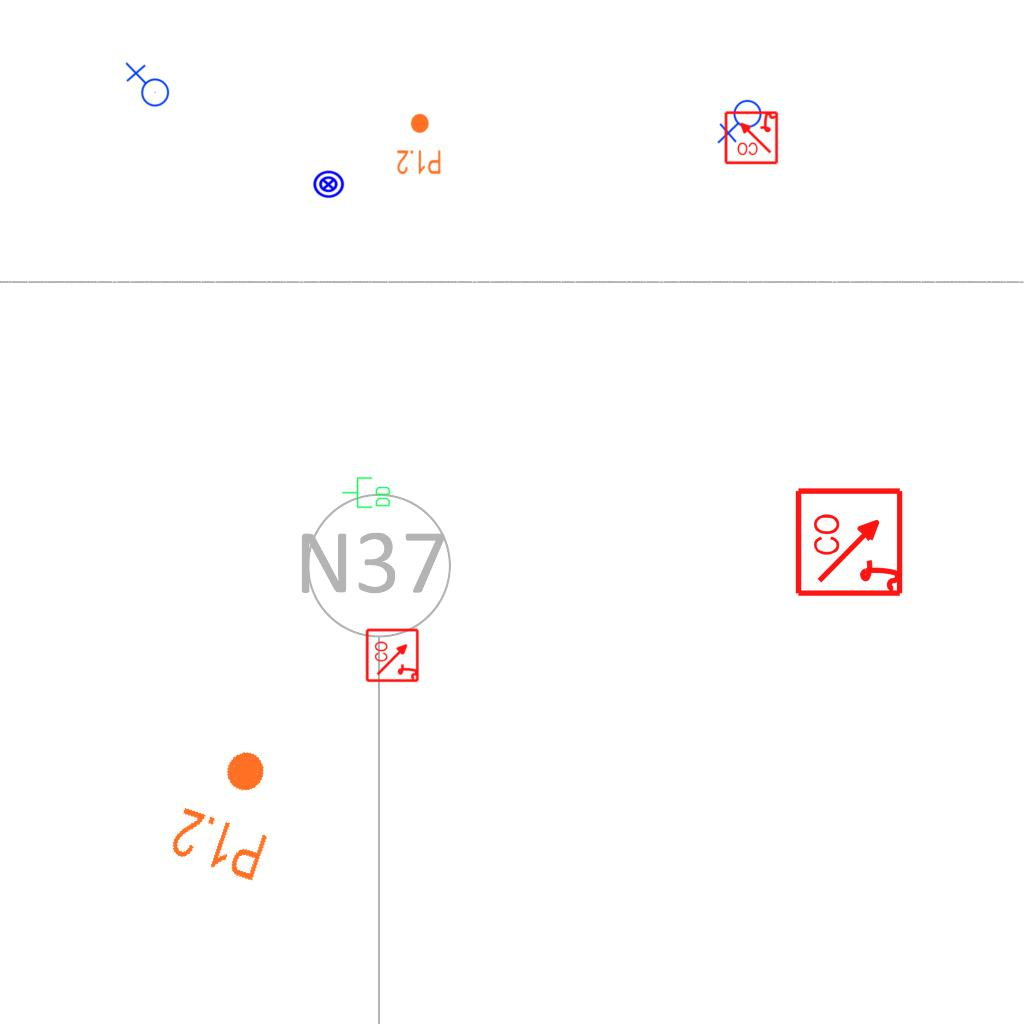Datenanschluss_zweifach: (341, 476, 392, 510)
Downlight_LED_Einbauleuchten_Flur: (165, 734, 296, 886), (396, 112, 442, 176)
Elektroanschluss_allgemein_230V_Geraeteanschlussdose_230V: (717, 99, 766, 146), (123, 62, 170, 111)
ROA_Rauchmelder_optisch_mit_Signalgeber_(Sockelsirene): (794, 485, 907, 598), (365, 627, 421, 683), (723, 109, 779, 165)
Taster_beleuchtet: (312, 168, 345, 201)
